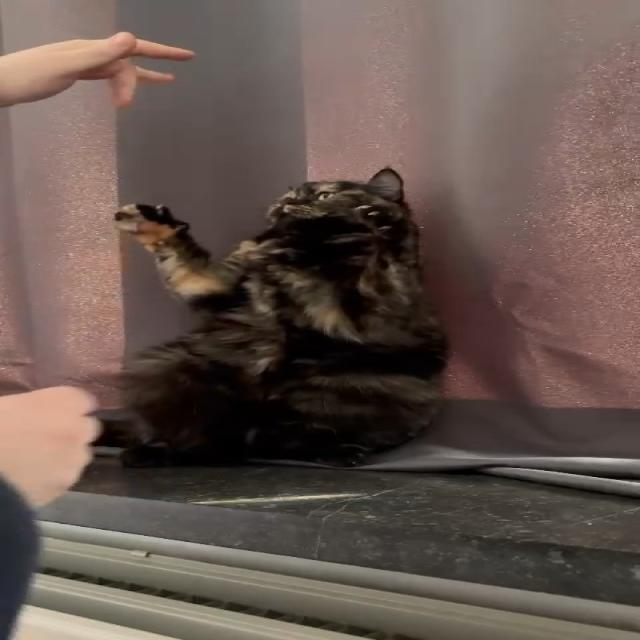authorized: (84, 166, 452, 469)
